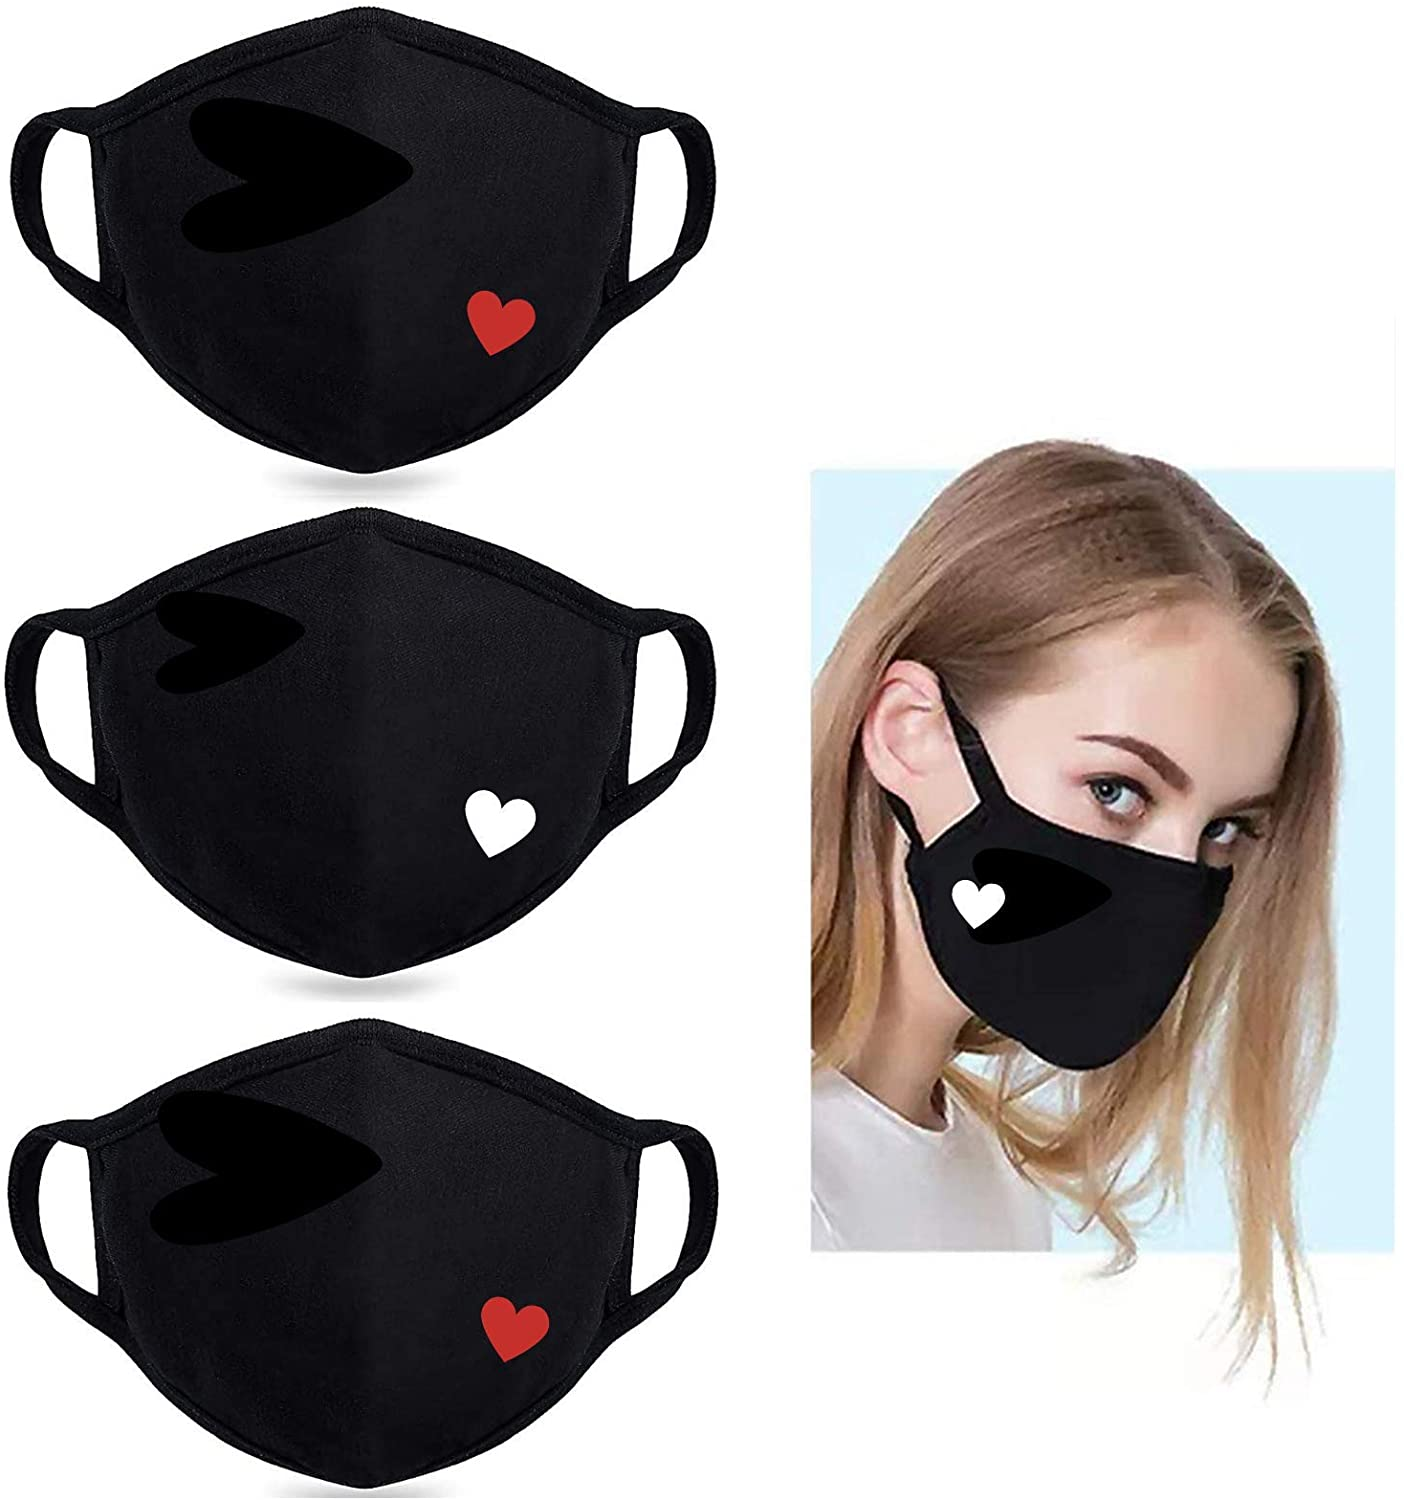mask: (8, 8, 730, 485), (5, 1011, 727, 1488), (1, 499, 722, 976), (910, 795, 1233, 1090)
person: (798, 422, 1346, 1352)
